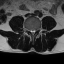CCS_normal: (32, 28, 33, 37)
LFS_stenosis: (35, 27, 37, 33)
LLS_normal: (33, 28, 35, 36)
RFS_stenosis: (28, 27, 30, 33)
RLS_normal: (30, 28, 32, 35)
